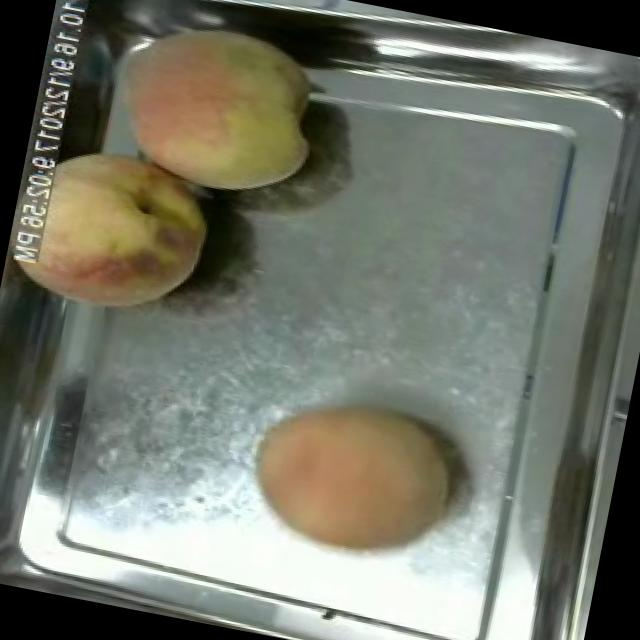Fruit: (92, 2, 340, 220), (1, 122, 230, 336), (234, 375, 469, 581)
